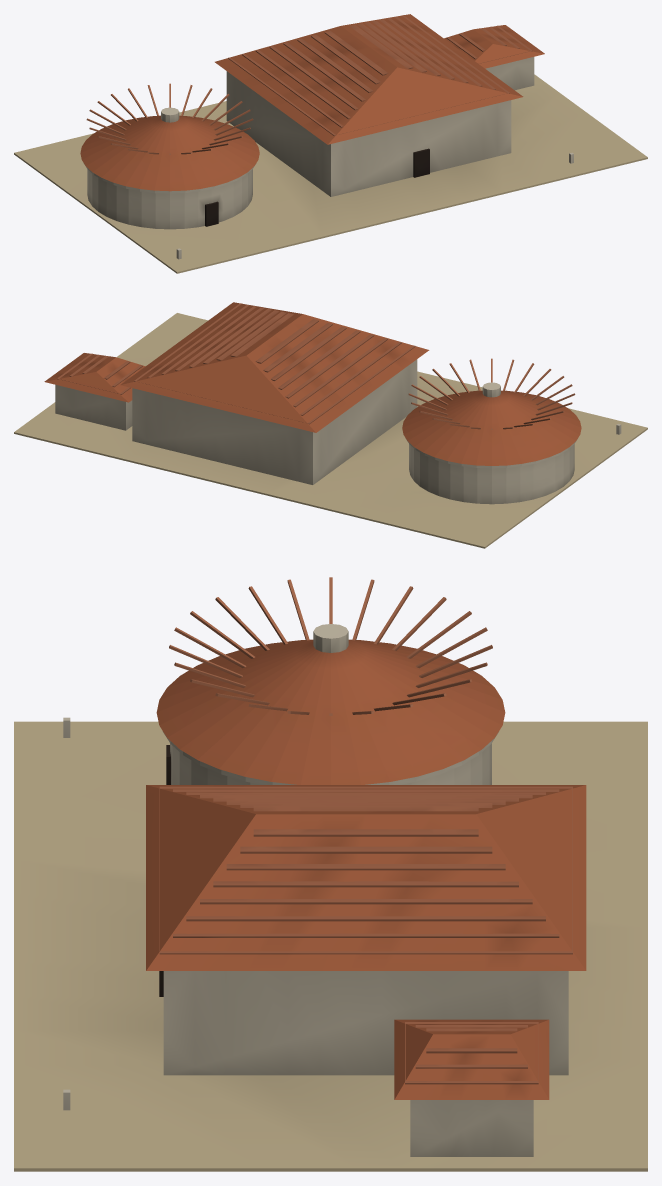
Rendered from bouleuterion-430.glb.
3 renders of one model, top to bottom at view 1: azimuth 30°, elevation 25°; view 2: azimuth 150°, elevation 25°; view 3: azimuth 270°, elevation 25°, orthographic. The views are drawn at different scales.
Visible parts, largest first — view 1: p1_buildings, p0_ground, p2_roofs; view 2: p1_buildings, p2_roofs, p0_ground; view 3: p0_ground, p2_roofs, p1_buildings.
Part boxes in pixels (box(x1,y1,x2,y2)): p1_buildings: box(80, 57, 573, 259); p0_ground: box(14, 74, 647, 273); p2_roofs: box(215, 14, 544, 144); p1_buildings: box(55, 358, 621, 504); p2_roofs: box(44, 302, 429, 432); p0_ground: box(14, 313, 647, 548); p0_ground: box(14, 721, 647, 1171); p2_roofs: box(146, 785, 586, 1099); p1_buildings: box(63, 577, 568, 1156).
Bounding box in the file's own units: 60.4 × 11.2 × 36.
